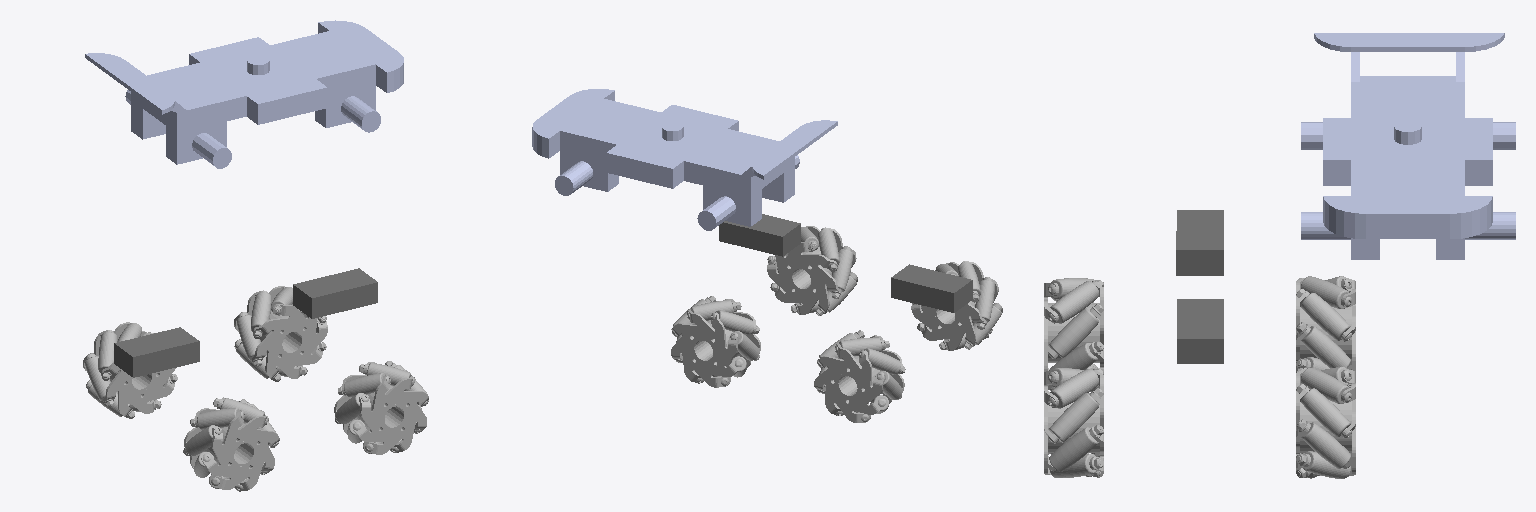
robot.urdf — urdf:
<?xml version="1.0" encoding="utf-8"?>
<!-- This URDF was automatically created by SolidWorks to URDF Exporter! Originally created by [author] ([email redacted]) 
     Commit Version: 1.6.0-4-g7f85cfe  Build Version: 1.6.7995.38578
     For more information, please see http://wiki.ros.org/sw_urdf_exporter -->
<robot name="urdf">

  <link name="base_link">
    <inertial>
      <origin xyz="-0.00280638761136618 9.22799255059434E-05 -0.00823780680525314" rpy="0 0 0" />
      <mass value="2.73624245548653" />
      <inertia ixx="0.0111853471576075" ixy="-7.2511498712482E-11" ixz="0.000255799746468985" iyy="0.0161314353661535" iyz="1.81571166508761E-07" izz="0.0239017300755925" />
    </inertial>
    <visual>
      <origin xyz="0 0 0" rpy="0 0 0" />
      <geometry>
        <mesh filename="package://midterm/urdf/meshes/base_link.STL" />
      </geometry>
      <material name="">
        <color rgba="0.792156862745098 0.819607843137255 0.933333333333333 1" />
      </material>
    </visual>
    <collision>
      <origin xyz="0 0 0" rpy="0 0 0" />
      <geometry>
        <mesh filename="package://midterm/urdf/meshes/base_link.STL" />
      </geometry>
    </collision>
  </link>
  <link name="Left_forward_wheel">
    <inertial>
      <origin xyz="1.2490009027033E-16 -6.1409211049579E-16 -0.0318963397161268" rpy="0 0 0" />
      <mass value="0.38693434007123" />
      <inertia ixx="0.000164665684225832" ixy="1.03435021381098E-16" ixz="2.79933590586541E-16" iyy="0.000164665684225701" iyz="1.53586588595806E-16" izz="0.000205539151193427" />
    </inertial>
    <visual>
      <origin xyz="0 0 0" rpy="0 0 0" />
      <geometry>
        <mesh filename="package://midterm/urdf/meshes/Left_forward_wheel.STL" />
      </geometry>
      <material name="">
        <color rgba="0.752941176470588 0.752941176470588 0.752941176470588 1" />
      </material>
    </visual>
    <collision>
      <origin xyz="0 0 0" rpy="0 0 0" />
      <geometry>
        <mesh filename="package://midterm/urdf/meshes/Left_forward_wheel.STL" />
      </geometry>
    </collision>
  </link>
  <joint name="Left_forward_joint" type="continuous">
    <origin xyz="0.1135 0.165 -0.0179" rpy="-1.5708 0 0" />
    <parent link="base_link" />
    <child link="Left_forward_wheel" />
    <axis xyz="0 0 1" />
    <dynamics damping="0.1" friction="0.1" />
  </joint>
  <link name="Right_forward_wheel">
    <inertial>
      <origin xyz="-1.2490009027033E-16 4.85722573273506E-17 -0.0318963396900528" rpy="0 0 0" />
      <mass value="0.386934339646562" />
      <inertia ixx="0.00016466568423101" ixy="-3.19541061769317E-17" ixz="-3.82361260302432E-17" iyy="0.000164665684231041" iyz="-2.40756939158418E-17" izz="0.000205539151181393" />
    </inertial>
    <visual>
      <origin xyz="0 0 0" rpy="0 0 0" />
      <geometry>
        <mesh filename="package://midterm/urdf/meshes/Right_forward_wheel.STL" />
      </geometry>
      <material name="">
        <color rgba="0.752941176470588 0.752941176470588 0.752941176470588 1" />
      </material>
    </visual>
    <collision>
      <origin xyz="0 0 0" rpy="0 0 0" />
      <geometry>
        <mesh filename="package://midterm/urdf/meshes/Right_forward_wheel.STL" />
      </geometry>
    </collision>
  </link>
  <joint name="Right_forward_joint" type="continuous">
    <origin xyz="0.1135 -0.165 -0.0179" rpy="1.5708 0 0" />
    <parent link="base_link" />
    <child link="Right_forward_wheel" />
    <axis xyz="0 0 -1" />
    <dynamics damping="0.1" friction="0.1" />
  </joint>
  <link name="Left_backward_wheel">
    <inertial>
      <origin xyz="-3.88578058618805E-16 1.52655665885959E-16 -0.0318963396983103" rpy="0 0 0" />
      <mass value="0.38693433977405" />
      <inertia ixx="0.000164665684224543" ixy="-5.44366971754961E-17" ixz="-1.64638873428518E-17" iyy="0.000164665684224467" iyz="-4.73291942910437E-17" izz="0.000205539151192063" />
    </inertial>
    <visual>
      <origin xyz="0 0 0" rpy="0 0 0" />
      <geometry>
        <mesh filename="package://midterm/urdf/meshes/Left_backward_wheel.STL" />
      </geometry>
      <material name="">
        <color rgba="0.752941176470588 0.752941176470588 0.752941176470588 1" />
      </material>
    </visual>
    <collision>
      <origin xyz="0 0 0" rpy="0 0 0" />
      <geometry>
        <mesh filename="package://midterm/urdf/meshes/Left_backward_wheel.STL" />
      </geometry>
    </collision>
  </link>
  <joint name="Left_backward_joint" type="continuous">
    <origin xyz="-0.1135 0.165 -0.0179" rpy="-1.5708 0 0" />
    <parent link="base_link" />
    <child link="Left_backward_wheel" />
    <axis xyz="0 0 1" />
    <dynamics damping="0.1" friction="0.1" />
  </joint>
  <link name="Right_backward_wheel">
    <inertial>
      <origin xyz="3.88578058618805E-16 3.81639164714898E-17 -0.0318963396918449" rpy="0 0 0" />
      <mass value="0.386934339673269" />
      <inertia ixx="0.000164665684230379" ixy="7.84436153661023E-17" ixz="-5.11751895742631E-17" iyy="0.000164665684230335" iyz="-1.24644074562022E-17" izz="0.000205539151179241" />
    </inertial>
    <visual>
      <origin xyz="0 0 0" rpy="0 0 0" />
      <geometry>
        <mesh filename="package://midterm/urdf/meshes/Right_backward_wheel.STL" />
      </geometry>
      <material name="">
        <color rgba="0.752941176470588 0.752941176470588 0.752941176470588 1" />
      </material>
    </visual>
    <collision>
      <origin xyz="0 0 0" rpy="0 0 0" />
      <geometry>
        <mesh filename="package://midterm/urdf/meshes/Right_backward_wheel.STL" />
      </geometry>
    </collision>
  </link>
  <joint name="Right_backward_joint" type="continuous">
    <origin xyz="-0.1135 -0.165 -0.0179" rpy="1.5708 0 0" />
    <parent link="base_link" />
    <child link="Right_backward_wheel" />
    <axis xyz="0 0 -1" />
    <dynamics damping="0.1" friction="0.1" />
  </joint>
  <link name="lindar">
    <inertial>
      <origin xyz="-0.00829409957033964 -6.93889390390723E-18 0.010701142222791" rpy="0 0 0" />
      <mass value="0.146695752131392" />
      <inertia ixx="6.22721120792818E-05" ixy="-1.8353446398283E-20" ixz="-1.88658076337422E-05" iyy="0.000109673997590948" iyz="-8.39148657969651E-21" izz="0.000125682524275729" />
    </inertial>
    <visual>
      <origin xyz="0 0 0" rpy="0 0 0" />
      <geometry>
        <mesh filename="package://midterm/urdf/meshes/lindar.STL" />
      </geometry>
      <material name="">
        <color rgba="0.792156862745098 0.819607843137255 0.933333333333333 1" />
      </material>
    </visual>
    <collision>
      <origin xyz="0 0 0" rpy="0 0 0" />
      <geometry>
        <mesh filename="package://midterm/urdf/meshes/lindar.STL" />
      </geometry>
    </collision>
  </link>
  <joint name="lidar_joint" type="fixed">
    <origin xyz="0.108 0 0.042" rpy="0 0 0" />
    <parent link="base_link" />
    <child link="lindar" />
    <axis xyz="0 0 0" />
    <dynamics damping="0.1" friction="0.1" />
  </joint>
  <!-- <link name="camera">
    <inertial>
      <origin xyz="0.00496941747572817 0.00663466659504938 0.00325439033106007" rpy="0 0 0" />
      <mass value="0.00339776560761352" />
      <inertia ixx="2.0587228463327E-07" ixy="-1.65206280027943E-23" ixz="5.15967188711596E-23" iyy="1.83317693669082E-07" iyz="3.02855427268585E-08" izz="1.84150046477411E-07" />
    </inertial>
    <visual>
      <origin xyz="0 0 0" rpy="0 0 0" />
      <geometry>
        <mesh filename="package://midterm/urdf/meshes/camera.STL" />
      </geometry>
      <material name="">
        <color rgba="0.792156862745098 0.819607843137255 0.933333333333333 1" />
      </material>
    </visual>
    <collision>
      <origin xyz="0 0 0" rpy="0 0 0" />
      <geometry>
        <mesh filename="package://midterm/urdf/meshes/camera.STL" />
      </geometry>
    </collision>
  </link>
  <joint name="camera_joint" type="fixed">
    <origin xyz="0.15 -0.0049694 -0.011361" rpy="3.1416 0 1.5708" />
    <parent link="base_link" />
    <child link="camera" />
    <axis xyz="0 0 0" />
    <dynamics damping="0.1" friction="0.1" />
  </joint> -->
  <!-- <link name="link1">
    <inertial>
      <origin xyz="0.0130133047131633 0.0889204179261883 -0.0296765696165617" rpy="0 0 0" />
      <mass value="0.164486554024359" />
      <inertia ixx="0.000544779739701674" ixy="-7.45784439965975E-05" ixz="9.94065100983671E-08" iyy="4.6096716851494E-05" iyz="6.79248063491979E-07" izz="0.000565982592073471" />
    </inertial>
    <visual>
      <origin xyz="0 0 0" rpy="0 0 0" />
      <geometry>
        <mesh filename="package://midterm/urdf/meshes/link1.STL" />
      </geometry>
      <material name="">
        <color rgba="0.792156862745098 0.819607843137255 0.933333333333333 1" />
      </material>
    </visual>
    <collision>
      <origin xyz="0 0 0" rpy="0 0 0" />
      <geometry>
        <mesh filename="package://midterm/urdf/meshes/link1.STL" />
      </geometry>
    </collision>
  </link>
  <joint name="link1_joint" type="revolute">
    <origin xyz="-0.025 0.0295 0.085" rpy="1.5708 -0.85308 3.1416" />
    <parent link="base_link" />
    <child link="link1" />
    <axis xyz="0 0 1" />
    <limit lower="0" upper="0" effort="0" velocity="0" />
    <dynamics damping="0.1" friction="0.1" />
  </joint>
  <link name="link2">
    <inertial>
      <origin xyz="0.104899329069202 0.0379645740880208 -0.0321285668568063" rpy="0 0 0" />
      <mass value="0.184332677556066" />
      <inertia ixx="0.000107535031720432" ixy="-0.000205718924701572" ixz="-1.78149467639473E-06" iyy="0.000593870869716796" iyz="-6.41437127577083E-07" izz="0.000681305864636033" />
    </inertial>
    <visual>
      <origin xyz="0 0 0" rpy="0 0 0" />
      <geometry>
        <mesh filename="package://midterm/urdf/meshes/link2.STL" />
      </geometry>
      <material name="">
        <color rgba="0.792156862745098 0.819607843137255 0.933333333333333 1" />
      </material>
    </visual>
    <collision>
      <origin xyz="0 0 0" rpy="0 0 0" />
      <geometry>
        <mesh filename="package://midterm/urdf/meshes/link2.STL" />
      </geometry>
    </collision>
  </link>
  <joint name="link2_joint" type="revolute">
    <origin xyz="0.024617 0.16821 -0.08085" rpy="3.1416 0 2.2885" />
    <parent link="link1" />
    <child link="link2" />
    <axis xyz="0 0 1" />
    <limit lower="0" upper="0" effort="0" velocity="0" />
    <dynamics damping="0.1" friction="0.1" />
  </joint> -->

  <!-- THÊM plugin differential_drive_controller -->
  <gazebo>
    <plugin name="differential_drive_controller" filename="libgazebo_ros_diff_drive.so">
      <updateRate>100.0</updateRate>
      <leftJoint>Left_backward_joint</leftJoint>
      <rightJoint>Right_backward_joint</rightJoint>
      <wheelSeparation>0.5380</wheelSeparation>
      <wheelDiameter>0.215</wheelDiameter>
      <wheelAcceleration>1.0</wheelAcceleration>
      <wheelTorque>20</wheelTorque>
      <commandTopic>cmd_vel</commandTopic>
      <odometryTopic>odom</odometryTopic>
      <odometryFrame>/odom</odometryFrame>
      <robotBaseFrame>/base_link</robotBaseFrame>
      <odometrySource>world</odometrySource>
      <publishWheelTF>false</publishWheelTF>
      <publishOdom>false</publishOdom>
      <publishWheelJointState>true</publishWheelJointState>
      <legacyMode>false</legacyMode>
    </plugin>
  </gazebo>

  <!-- THÊM plugin differential_drive_controller -->
  <gazebo>
    <plugin name="differential_drive_controller" filename="libgazebo_ros_diff_drive.so">
      <updateRate>100.0</updateRate>
      <leftJoint>Left_forward_joint</leftJoint>
      <rightJoint>Right_forward_joint</rightJoint>
      <wheelSeparation>0.5380</wheelSeparation>
      <wheelDiameter>0.215</wheelDiameter>
      <wheelAcceleration>1.0</wheelAcceleration>
      <wheelTorque>20</wheelTorque>
      <commandTopic>cmd_vel</commandTopic>
      <odometryTopic>odom</odometryTopic>
      <odometryFrame>odom</odometryFrame>
      <robotBaseFrame>base_link</robotBaseFrame>
      <odometrySource>encoder</odometrySource>
      <publishWheelTF>false</publishWheelTF>
      <publishOdom>false</publishOdom>
      <publishOdomTF>false</publishOdomTF>
      <publishTf>0</publishTf>
      <publishWheelJointState>true</publishWheelJointState>
      <legacyMode>false</legacyMode>
    </plugin>
  </gazebo>

  <gazebo reference="lindar">
    <sensor name="lidar_sensor" type="ray">
      <pose>0 0 0 0 0 0</pose>
      <visualize>true</visualize>
      <update_rate>10.0</update_rate>
      <ray>
        <scan>
          <horizontal>
            <samples>720</samples>
            <resolution>1</resolution>
            <min_angle>-2.5708</min_angle>
            <max_angle>2.5708</max_angle>
          </horizontal>
        </scan>
        <range>
          <min>0.1</min>
          <max>10.0</max>
          <resolution>0.01</resolution>
        </range>
        <noise>
          <type>gaussian</type>
          <mean>0.0</mean>
          <stddev>0.01</stddev>
        </noise>
      </ray>
      <plugin name="gazebo_ros_laser_controller" filename="libgazebo_ros_laser.so">
        <topicName>scan</topicName>
        <frameName>lindar</frameName>
      </plugin>
    </sensor>
  </gazebo>

  <link name="rear_camera">
    <visual>
      <geometry>
        <box size="0.1 0.05 0.03"/>
      </geometry>
      <material name="Gray">
        <color rgba="0.5 0.5 0.5 0.0"/>
      </material>
    </visual>
    <inertial>
      <mass value="0.1"/>
      <origin xyz="0 0 0"/>
      <inertia ixx="0.01" iyy="0.01" izz="0.01" ixy="0" ixz="0" iyz="0"/>
    </inertial>
  </link>
  <joint name="rear_camera_joint" type="fixed">
    <parent link="base_link"/>
    <child link="rear_camera"/>
    <origin xyz="-0.15 0 0.07" rpy="0 0 3.14"/>
  </joint>

  <gazebo reference="rear_camera">
    <sensor name="camera_rear" type="camera">
      <update_rate>30</update_rate>
      <camera>
        <horizontal_fov>1.396</horizontal_fov>
        <image>
          <width>640</width>
          <height>480</height>
          <format>R8G8B8</format>
        </image>
        <clip>
          <near>0.02</near>
          <far>100</far>
        </clip>
      </camera>
      <plugin name="gazebo_ros_camera" filename="libgazebo_ros_camera.so">
        <alwaysOn>true</alwaysOn>
        <updateRate>30.0</updateRate>
        <cameraName>rear_camera</cameraName>
        <imageTopicName>/rear_camera/image_raw</imageTopicName>
        <cameraInfoTopicName>/rear_camera/camera_info</cameraInfoTopicName>
        <frameName>rear_camera</frameName>
      </plugin>
    </sensor>
  </gazebo>

  <!-- front camera -->

  <link name="front_camera">
    <visual>
      <geometry>
        <box size="0.1 0.05 0.03"/>
      </geometry>
      <material name="Gray">
        <color rgba="0.5 0.5 0.5 0.0"/>
      </material>
    </visual>
    <inertial>
      <mass value="0.1"/>
      <origin xyz="0 0 0"/>
      <inertia ixx="0.01" iyy="0.01" izz="0.01" ixy="0" ixz="0" iyz="0"/>
    </inertial>
  </link>
  <joint name="front_camera_joint" type="fixed">
    <parent link="base_link"/>
    <child link="front_camera"/>
    <origin xyz="0.12 0 0.092" rpy="0 0 0"/>
  </joint>

  <gazebo reference="front_camera">
    <sensor name="front_camera" type="camera">
      <update_rate>30</update_rate>
      <camera>
        <horizontal_fov>1.396</horizontal_fov>
        <image>
          <width>640</width>
          <height>480</height>
          <format>R8G8B8</format>
        </image>
        <clip>
          <near>0.02</near>
          <far>100</far>
        </clip>
      </camera>
      <plugin name="gazebo_ros_camera" filename="libgazebo_ros_camera.so">
        <alwaysOn>true</alwaysOn>
        <updateRate>30.0</updateRate>
        <cameraName>front_camera</cameraName>
        <imageTopicName>/front_camera/image_raw</imageTopicName>
        <cameraInfoTopicName>/front_camera/camera_info</cameraInfoTopicName>
        <frameName>front_camera</frameName>
      </plugin>
    </sensor>
  </gazebo>


  <!-- Transmission cho 4 khop banh xe -->
  <transmission name="Left_forward_joint_trans">
    <type>transmission_interface/SimpleTransmission</type>
    <actuator name="Left_forward_joint_motor">

      <mechanicalReduction>1</mechanicalReduction>
    </actuator>
    <joint name="Left_forward_joint">
      <hardwareInterface>hardware_interface/VelocityJointInterface</hardwareInterface>
    </joint>
  </transmission>


  <!-- Transmition -->
  <transmission name="Right_forward_joint_trans">
    <type>transmission_interface/SimpleTransmission</type>
    <actuator name="Right_forward_joint_motor">

      <mechanicalReduction>1</mechanicalReduction>
    </actuator>
    <joint name="Right_forward_joint">
      <hardwareInterface>hardware_interface/VelocityJointInterface</hardwareInterface>
    </joint>
  </transmission>


  <!-- Transmition -->
  <transmission name="Left_backward_joint_trans">
    <type>transmission_interface/SimpleTransmission</type>
    <actuator name="Left_backward_joint_motor">

      <mechanicalReduction>1</mechanicalReduction>
    </actuator>
    <joint name="Left_backward_joint">
      <hardwareInterface>hardware_interface/VelocityJointInterface</hardwareInterface>
    </joint>
  </transmission>


  <!-- Transmition -->
  <transmission name="Right_backward_joint_trans">
    <type>transmission_interface/SimpleTransmission</type>
    <actuator name="Right_backward_joint_motor">

      <mechanicalReduction>1</mechanicalReduction>
    </actuator>
    <joint name="Right_backward_joint">
      <hardwareInterface>hardware_interface/VelocityJointInterface</hardwareInterface>
    </joint>
  </transmission>

  <!-- Transmission cho khớp arm1 -->
  <!-- <transmission name="arm1_trans">
    <type>transmission_interface/SimpleTransmission</type>
    <joint name="link1_joint">
      <hardwareInterface>hardware_interface/EffortJointInterface</hardwareInterface>
    </joint>
    <actuator name="link1_motor">
      <mechanicalReduction>1</mechanicalReduction>
    </actuator>
  </transmission>

  <transmission name="arm2_trans">
    <type>transmission_interface/SimpleTransmission</type>
    <joint name="link2_joint">
      <hardwareInterface>hardware_interface/EffortJointInterface</hardwareInterface>
    </joint>
    <actuator name="link2_motor">
      <mechanicalReduction>1</mechanicalReduction>
    </actuator>
  </transmission>
  <gazebo>
    <plugin name="gazebo_ros_control" filename="libgazebo_ros_control.so"/>
  </gazebo> -->

</robot>

--- What the picture shows (computed from the rendered views, not written in the file) ---
3 views of the same robot in one strip: view 1: azimuth 30°, elevation 25°; view 2: azimuth 150°, elevation 25°; view 3: azimuth 270°, elevation 25° (orthographic).
Robot: urdf — 8 links, 7 joints (4 continuous, 3 fixed); root link base_link; default pose: every joint at zero.
Links seen in each view (by area): view 1: base_link, Right_backward_wheel, Right_forward_wheel, Left_forward_wheel, Left_backward_wheel, rear_camera, front_camera; view 2: base_link, Left_forward_wheel, Left_backward_wheel, Right_forward_wheel, Right_backward_wheel, rear_camera, front_camera; view 3: base_link, Left_forward_wheel, Right_forward_wheel, Left_backward_wheel, Right_backward_wheel, rear_camera, front_camera.
Boxes of the visible links, <box> form: base_link: <box>85,20,403,168</box>; Right_backward_wheel: <box>183,397,279,491</box>; Right_forward_wheel: <box>334,361,428,454</box>; Left_forward_wheel: <box>234,286,327,381</box>; Left_backward_wheel: <box>83,322,177,418</box>; rear_camera: <box>114,327,199,377</box>; front_camera: <box>293,268,377,318</box>; base_link: <box>532,89,837,230</box>; Left_forward_wheel: <box>671,296,760,387</box>; Left_backward_wheel: <box>814,330,905,422</box>; Right_forward_wheel: <box>767,226,857,315</box>; Right_backward_wheel: <box>911,261,1002,350</box>; rear_camera: <box>891,264,972,312</box>; front_camera: <box>719,214,800,256</box>; base_link: <box>1301,33,1515,259</box>; Left_forward_wheel: <box>1296,367,1355,478</box>; Right_forward_wheel: <box>1044,368,1103,477</box>; Left_backward_wheel: <box>1296,276,1355,371</box>; Right_backward_wheel: <box>1044,278,1103,371</box>; rear_camera: <box>1176,210,1223,275</box>; front_camera: <box>1177,299,1223,363</box>.
Size in the robot's own frame: 0.5183 by 0.4995 by 0.4302 metres.
Meshes: 6 distinct files referenced, 5 mesh visuals loaded (5 binary STL); not drawn: 1 (reference not matched to a file when rendering).
